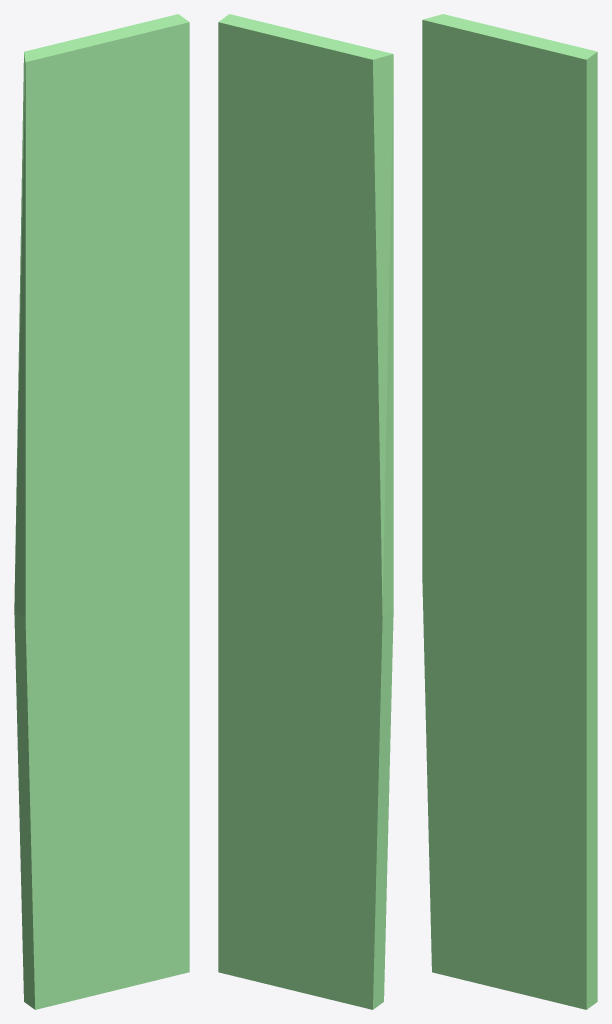
File: dvkr_robot_robot_base_coll_9.dae
3 views of the same model, side by side, from view 1: azimuth 30°, elevation 25°; view 2: azimuth 150°, elevation 25°; view 3: azimuth 330°, elevation 25° (orthographic).
Visible parts, largest first — view 1: Node_0000023514CD7BC0; view 2: Node_0000023514CD7BC0; view 3: Node_0000023514CD7BC0.
Boxes of the visible parts, bbox=[...] form: Node_0000023514CD7BC0: bbox=[14, 14, 189, 1009]; Node_0000023514CD7BC0: bbox=[218, 14, 393, 1009]; Node_0000023514CD7BC0: bbox=[422, 14, 597, 1009].
Bounding box in the file's own units: 0.17 × 0.94 × 0.0201.
